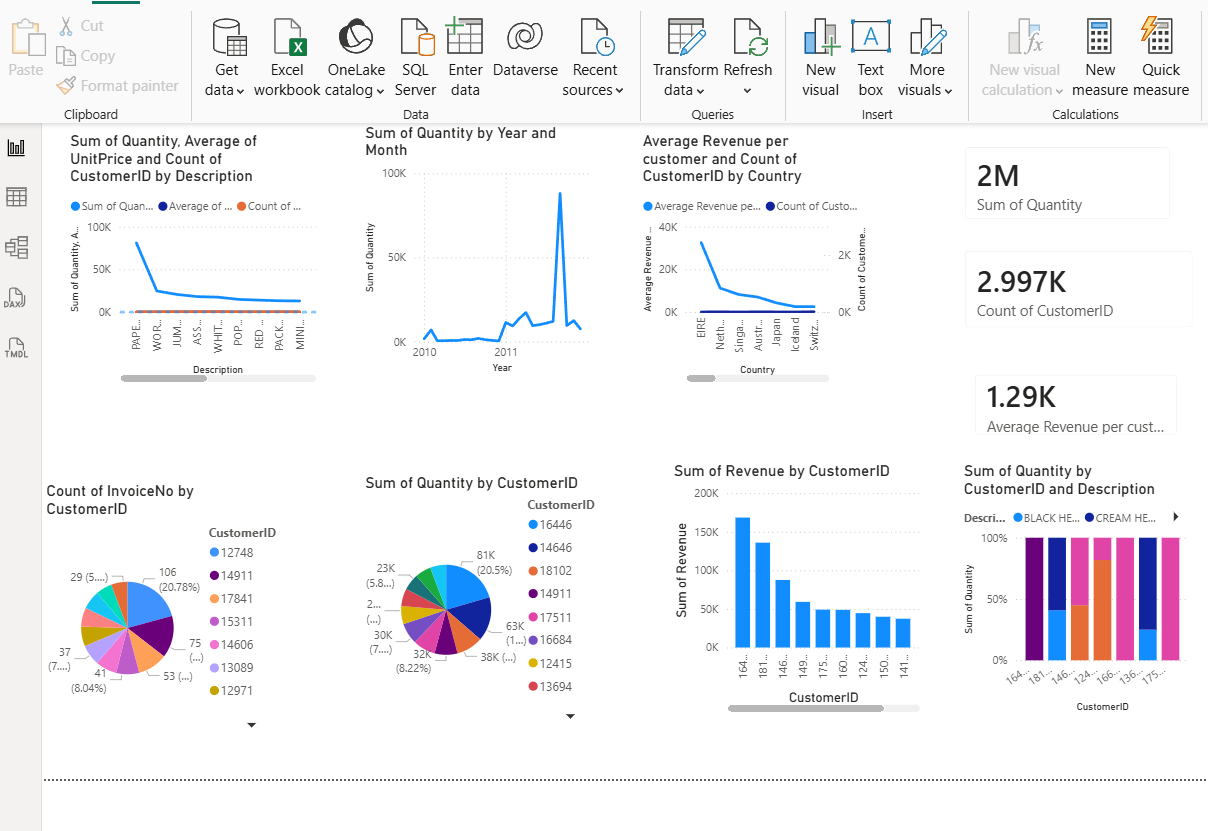

Layout of this report page (visuals, bound fields, positions):
{"tool":"powerbi","page":{"name":"Page 1","canvas":[1280,720],"ordinal":0},"visuals":[{"type":"lineChart","fields":{"Y":["Sum(dataset gold.Quantity)","Avg(dataset gold.UnitPrice)","Count(dataset gold.CustomerID)"],"Category":["dataset gold.Description"]},"box":[26.1,9.6,279.9,279.9],"z":0},{"type":"lineChart","fields":{"Category":["dataset gold.InvoiceDate.1.Variation.Date Hierarchy.Year","dataset gold.InvoiceDate.1.Variation.Date Hierarchy.Month"],"Y":["Sum(dataset gold.Quantity)"]},"box":[349.9,0,259.3,279.9],"z":2000},{"type":"pieChart","fields":{"Category":["dataset gold.CustomerID"],"Y":["Count(dataset gold.InvoiceNo)"]},"box":[0,393.8,279.9,279.9],"z":3000},{"type":"pieChart","fields":{"Category":["dataset gold.CustomerID"],"Y":["Sum(dataset gold.Quantity)"]},"box":[349.9,384.2,279.9,279.9],"z":4000},{"type":"clusteredColumnChart","fields":{"Category":["dataset gold.CustomerID"],"Y":["Sum(dataset gold.Revenue)"]},"box":[688.9,371.9,279.9,279.9],"z":5000},{"type":"cardVisual","fields":{"Data":["Sum(dataset gold.Quantity)"]},"box":[996.2,9.6,259.3,113.9],"z":6000},{"type":"cardVisual","fields":{"Data":["Count(dataset gold.CustomerID)"]},"box":[996.2,123.5,284,118],"z":7000},{"type":"cardVisual","fields":{"Data":["dataset gold.Average Revenue per customer"]},"box":[1007.2,259.3,256.6,100.2],"z":8000},{"type":"lineChart","fields":{"Category":["dataset gold.Country"],"Y":["dataset gold.Average Revenue per customer"],"Y2":["Count(dataset gold.CustomerID)"]},"box":[654.5,9.6,256.6,279.9],"z":9000},{"type":"hundredPercentStackedColumnChart","fields":{"Category":["dataset gold.CustomerID"],"Y":["Sum(dataset gold.Quantity)"],"Series":["dataset gold.Description"]},"box":[1007,372,257,280],"z":9001}]}

Visuals, with their boxes on the page's 1280x720 design canvas (x1, y1, x2, y2). These are canvas units, not pixel positions in the 1208x831 screenshot, which may show the page scaled, cropped or inside an application window:
lineChart - Sum(dataset gold.Quantity) x Avg(dataset gold.UnitPrice): 26,10,306,290
lineChart - dataset gold.InvoiceDate.1.Variation.Date Hierarchy.Year x dataset gold.InvoiceDate.1.Variation.Date Hierarchy.Month: 350,0,609,280
pieChart - dataset gold.CustomerID x Count(dataset gold.InvoiceNo): 0,394,280,674
pieChart - dataset gold.CustomerID x Sum(dataset gold.Quantity): 350,384,630,664
clusteredColumnChart - dataset gold.CustomerID x Sum(dataset gold.Revenue): 689,372,969,652
cardVisual - Sum(dataset gold.Quantity): 996,10,1256,124
cardVisual - Count(dataset gold.CustomerID): 996,124,1280,242
cardVisual - dataset gold.Average Revenue per customer: 1007,259,1264,360
lineChart - dataset gold.Country x dataset gold.Average Revenue per customer: 654,10,911,290
hundredPercentStackedColumnChart - dataset gold.CustomerID x Sum(dataset gold.Quantity): 1007,372,1264,652
